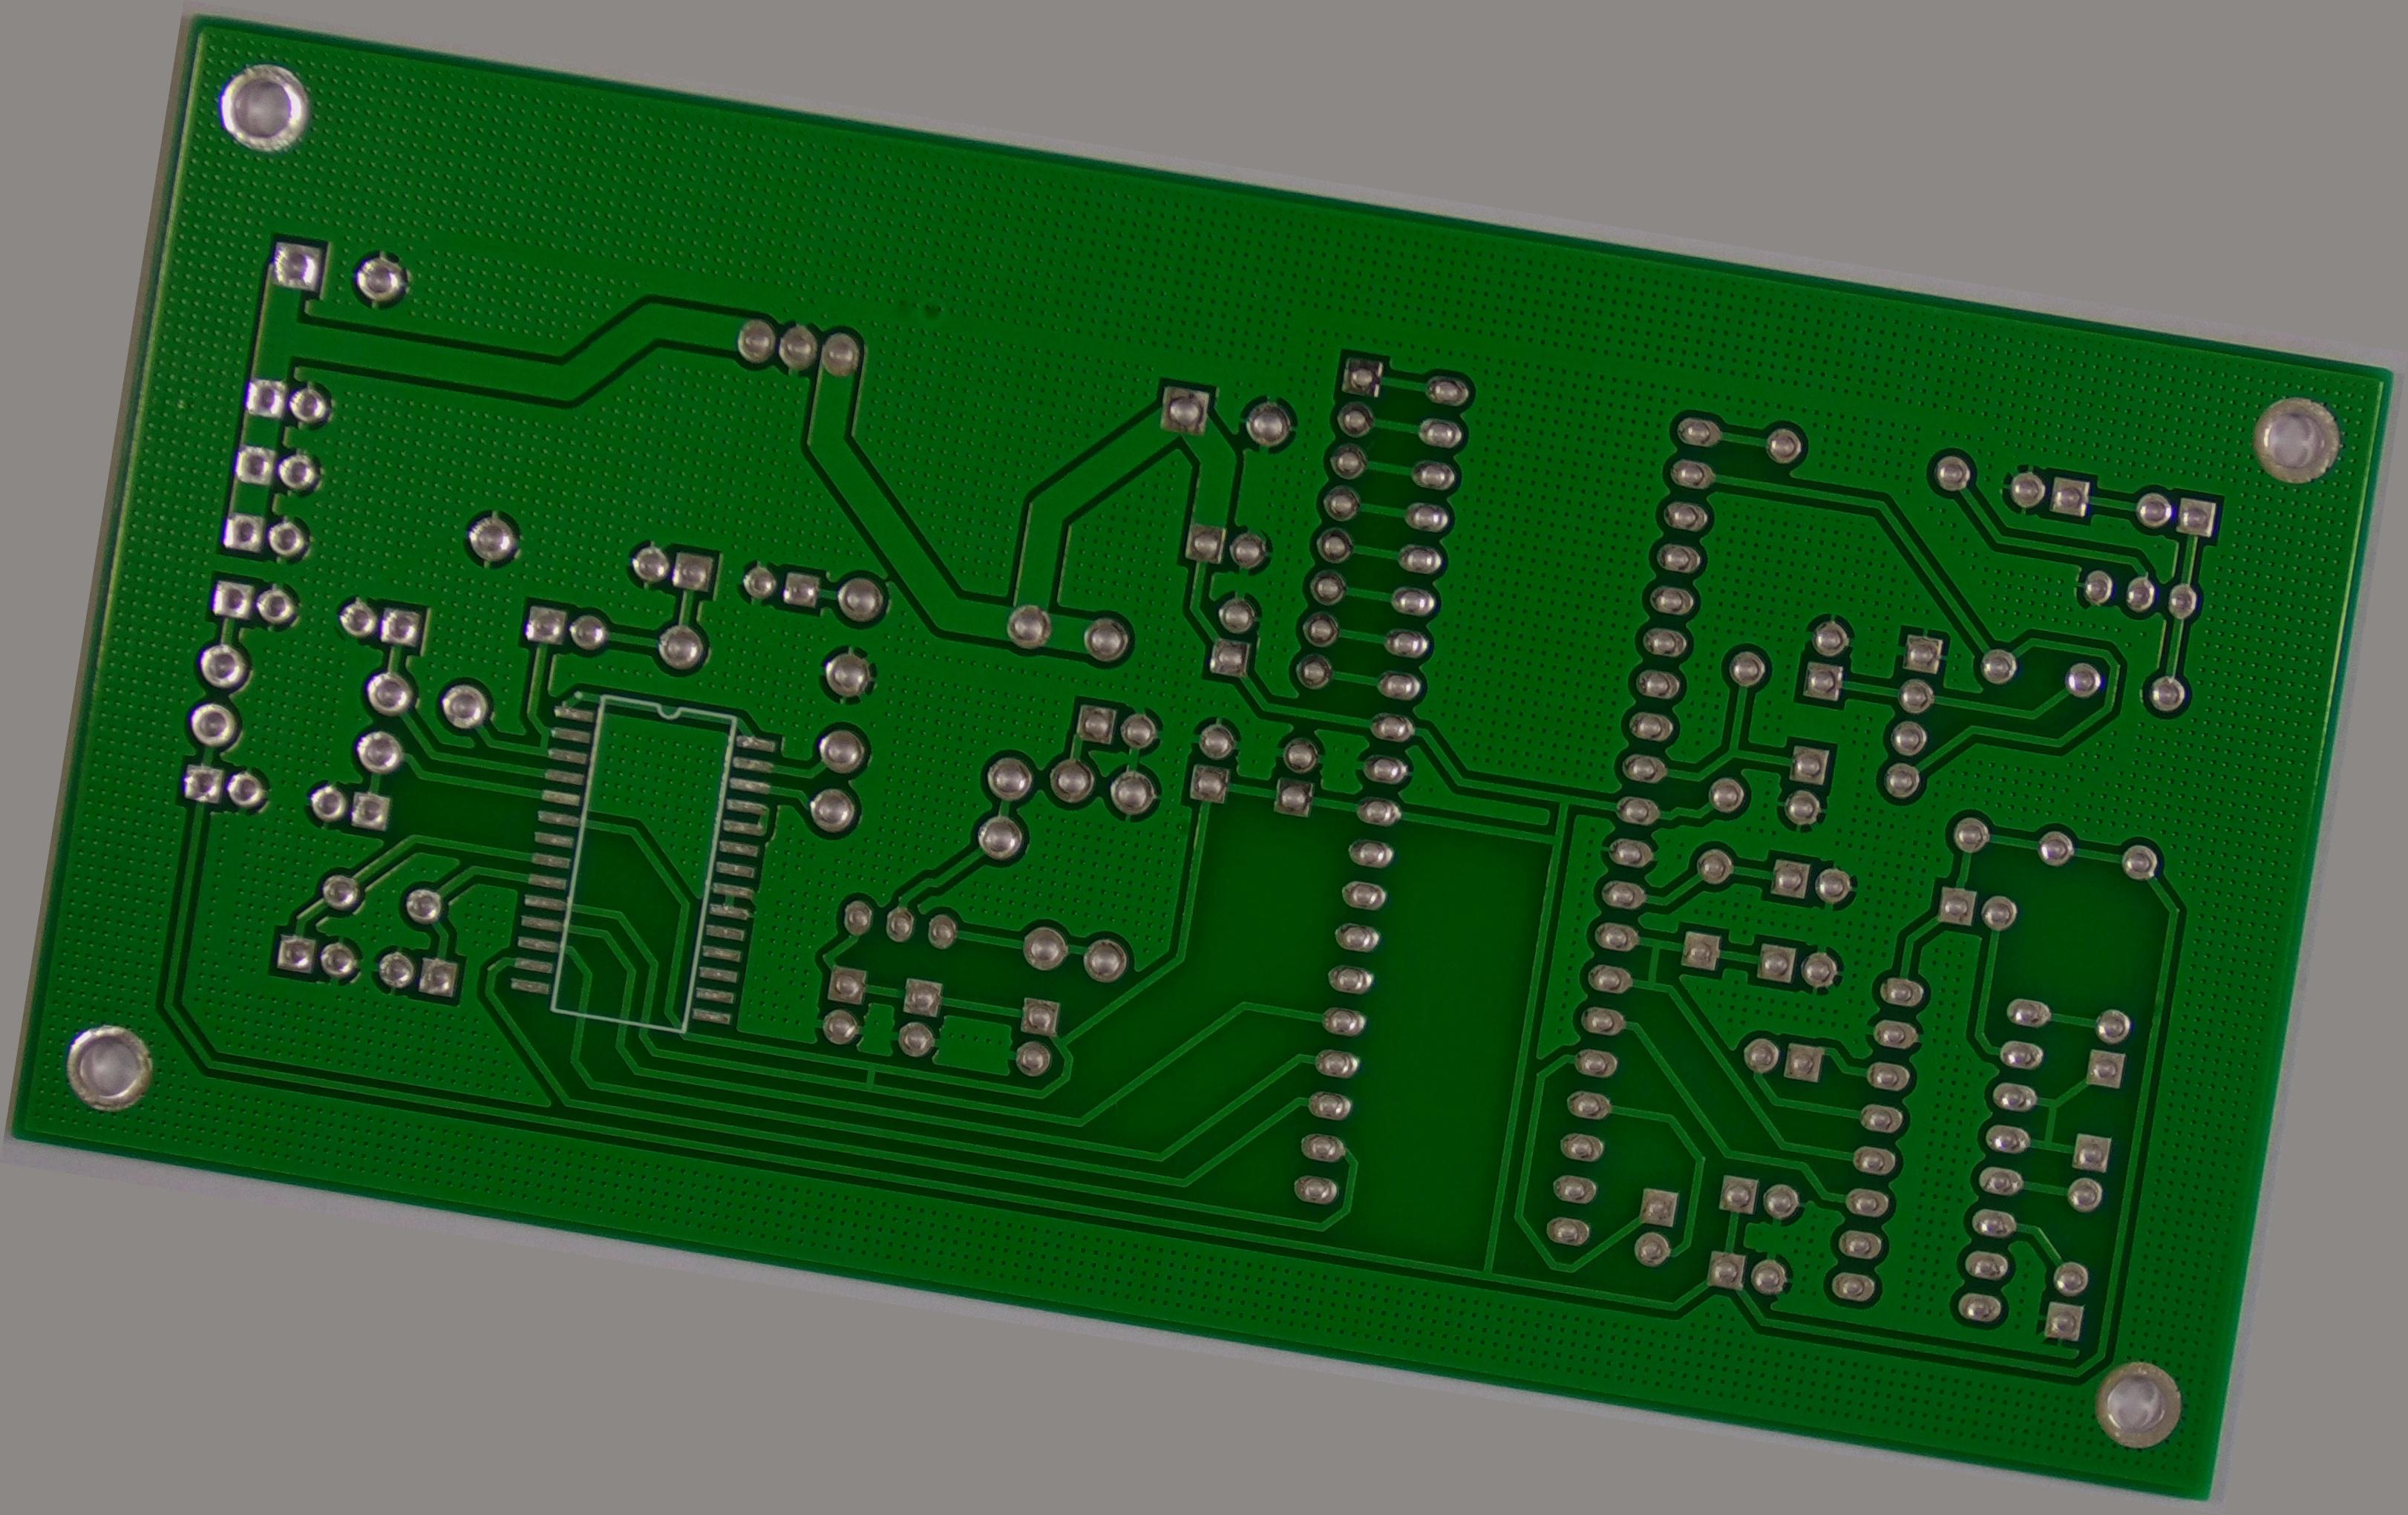short: (1619, 925, 1693, 1007), (2014, 1091, 2085, 1162), (839, 1045, 892, 1103), (527, 717, 564, 757)
